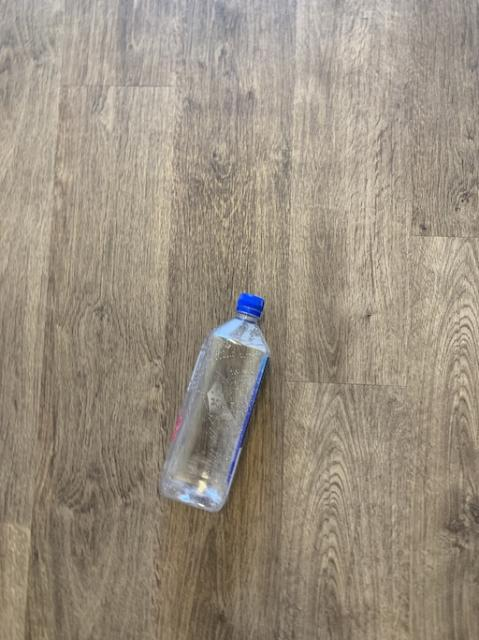plastic: (159, 292, 268, 510)
